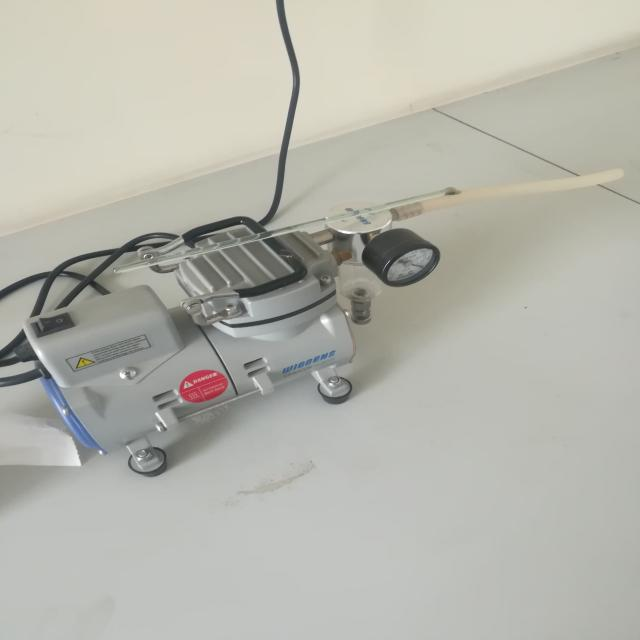Glass_Rod: (84, 180, 521, 286)
